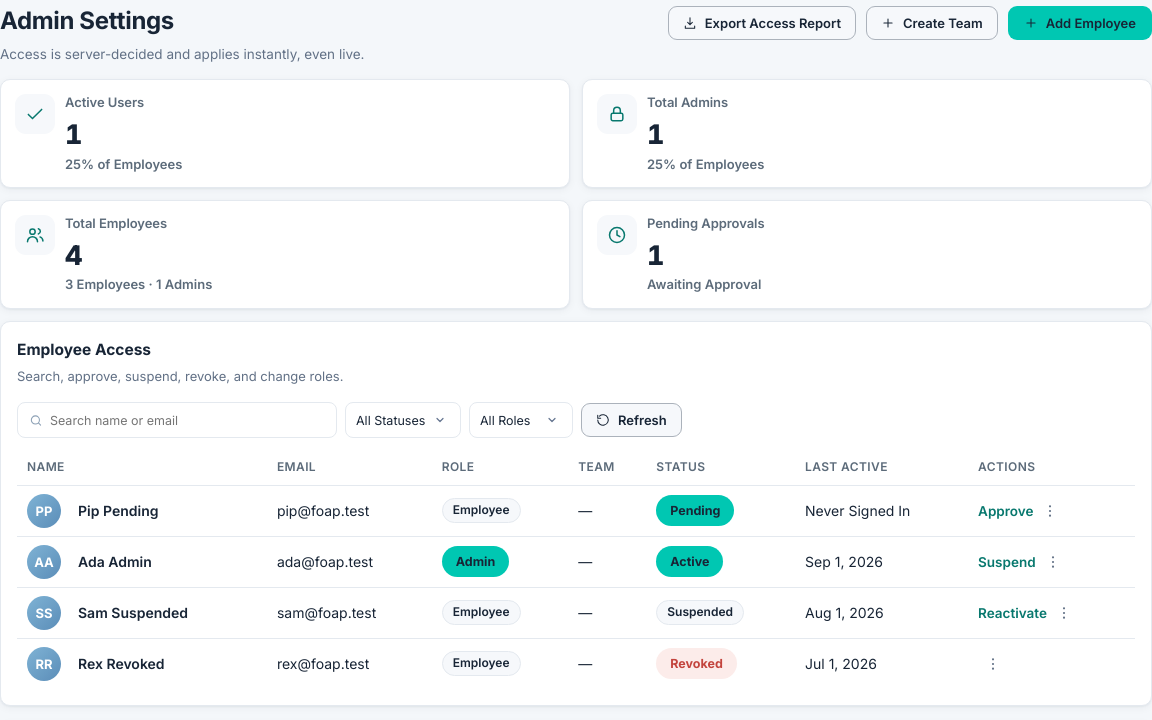
Scenario: AdminEmployeesPage › adds an employee through the add-employee dialog and reports success
Expected: the button "Approve" is shown, x1=978 y1=503 x2=1034 y2=519
Expected: the field with placeholder "Email Address" is not shown
Click the button "Add Employee".
click(1080, 23)  # box x1=1008 y1=6 x2=1151 y2=40
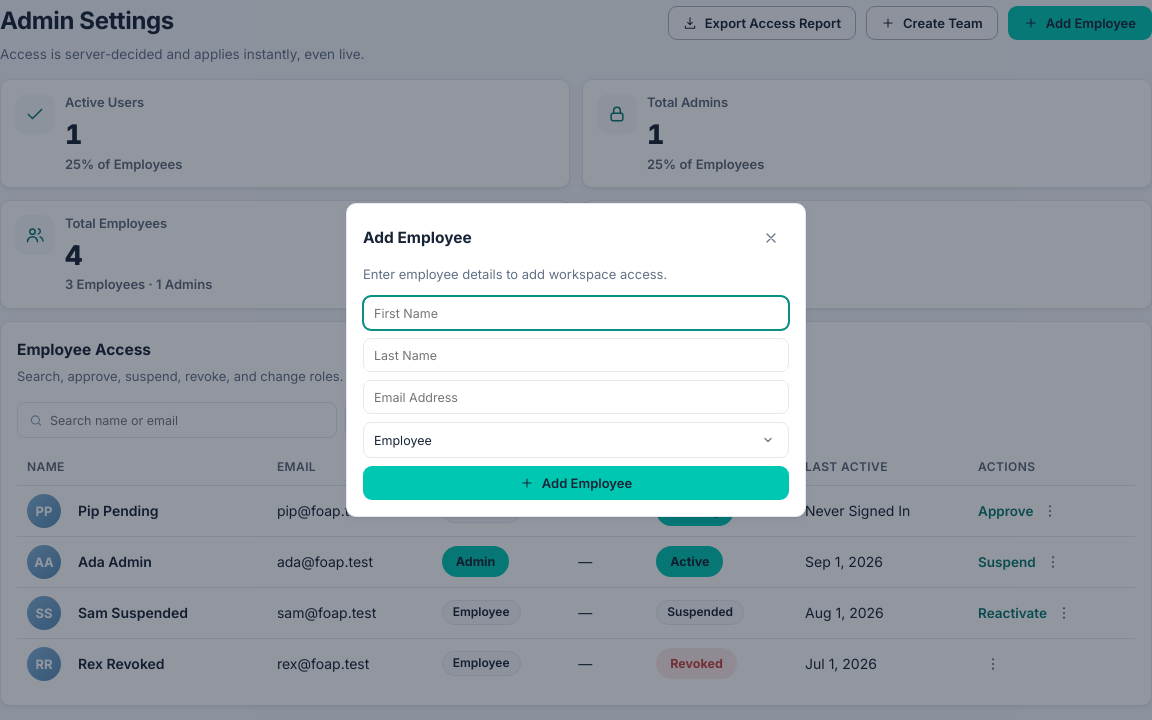
Expected: the button named "Close Add Employee dialog" is shown, x1=753 y1=220 x2=789 y2=256
Type "new@foap.test" into the field with placeholder "Email Address".
click(576, 397); type("new@foap.test")  # box x1=363 y1=380 x2=789 y2=414
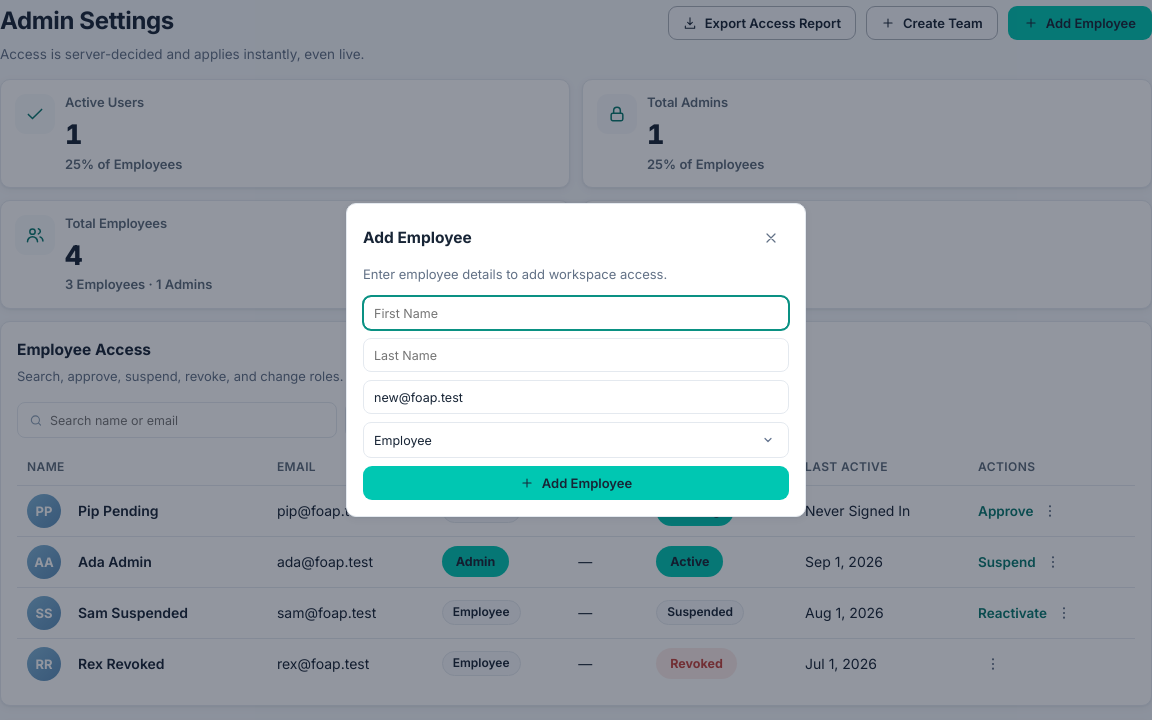
Select "Employee" in the dropdown named "New Employee Role" at (576, 440), box x1=363 y1=422 x2=789 y2=458
Click the button "Add Employee".
click(576, 483)  # box x1=363 y1=466 x2=789 y2=500
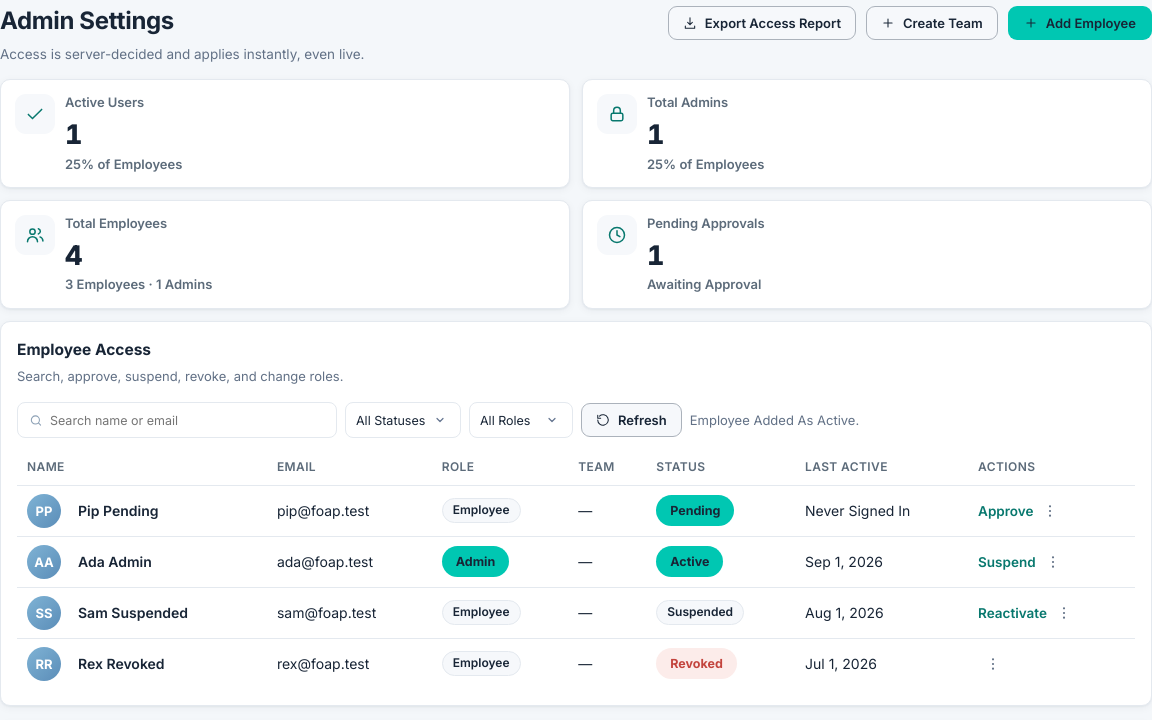
Expected: the text "Employee Added As Active." is shown, x1=690 y1=410 x2=859 y2=430
